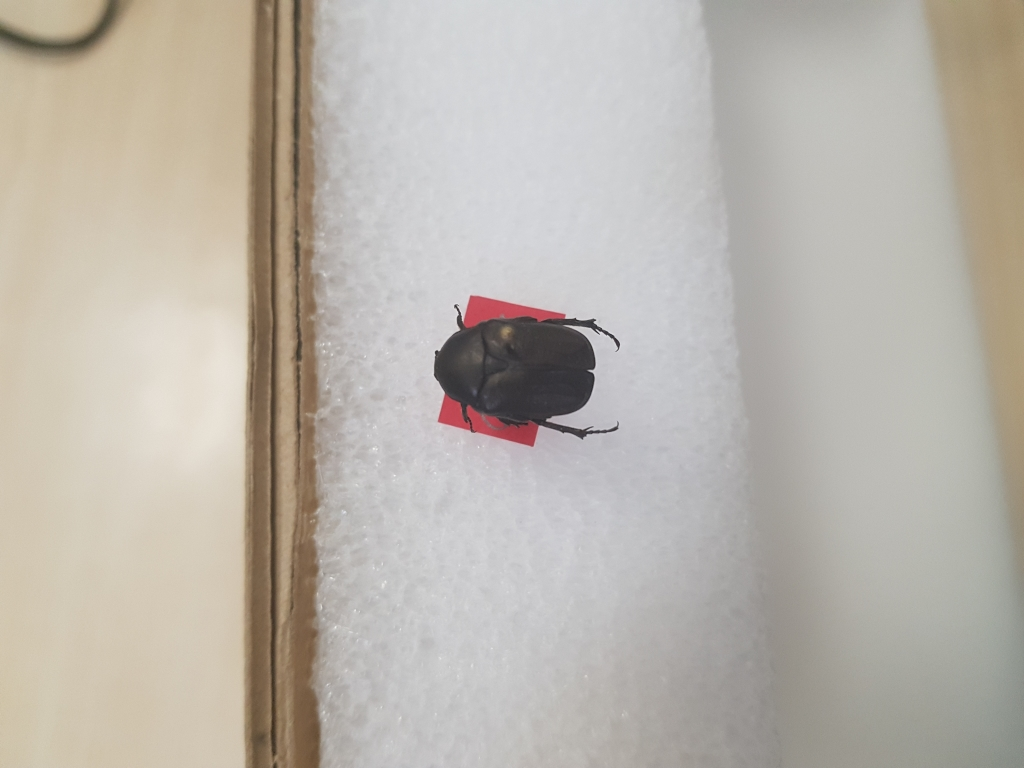Protaetia_vidua: (430, 301, 631, 441)
